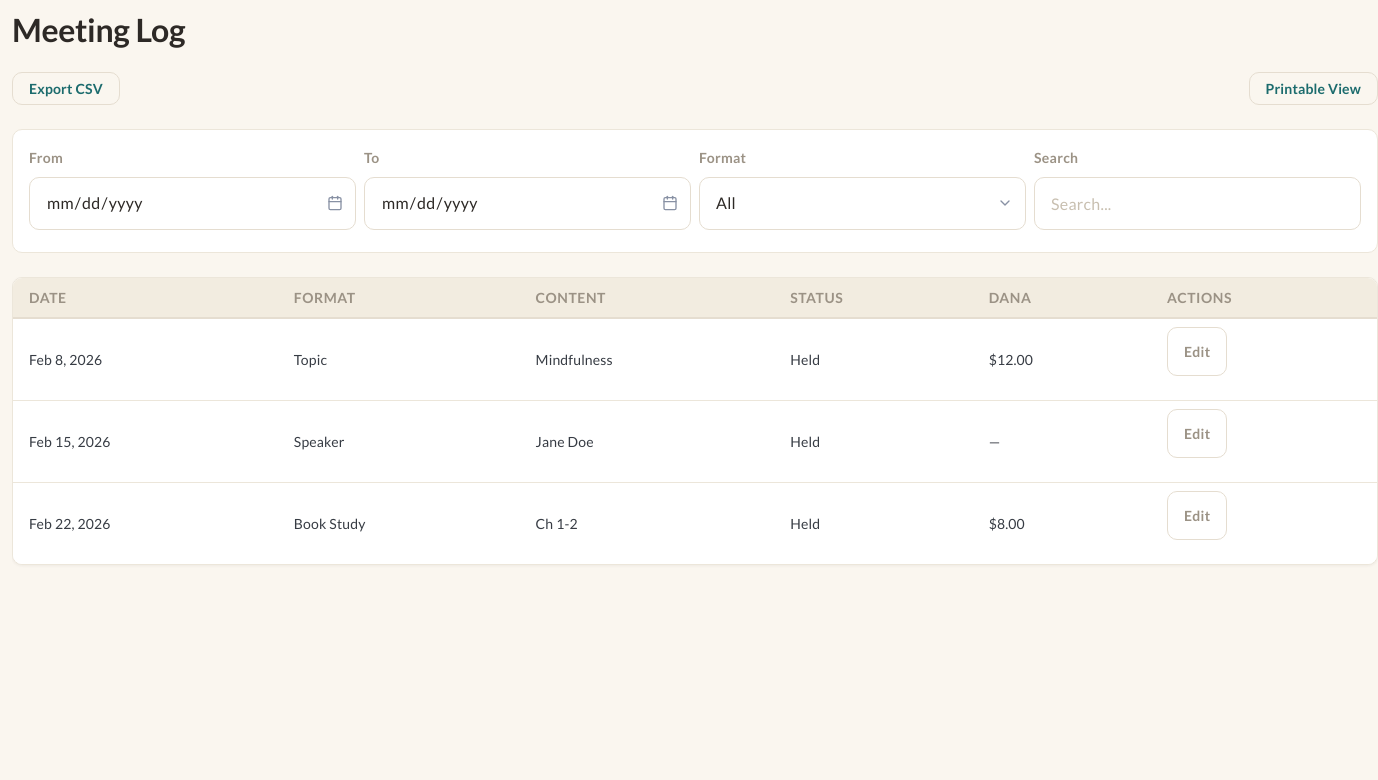
Test: Log › filtering › filters by date range
Expected: the text "Mindfulness" is shown, left=520, top=319, right=774, bottom=401
In the date field labelled "From": (192, 203) left=29, top=177, right=356, bottom=230, type "2026-02-14"
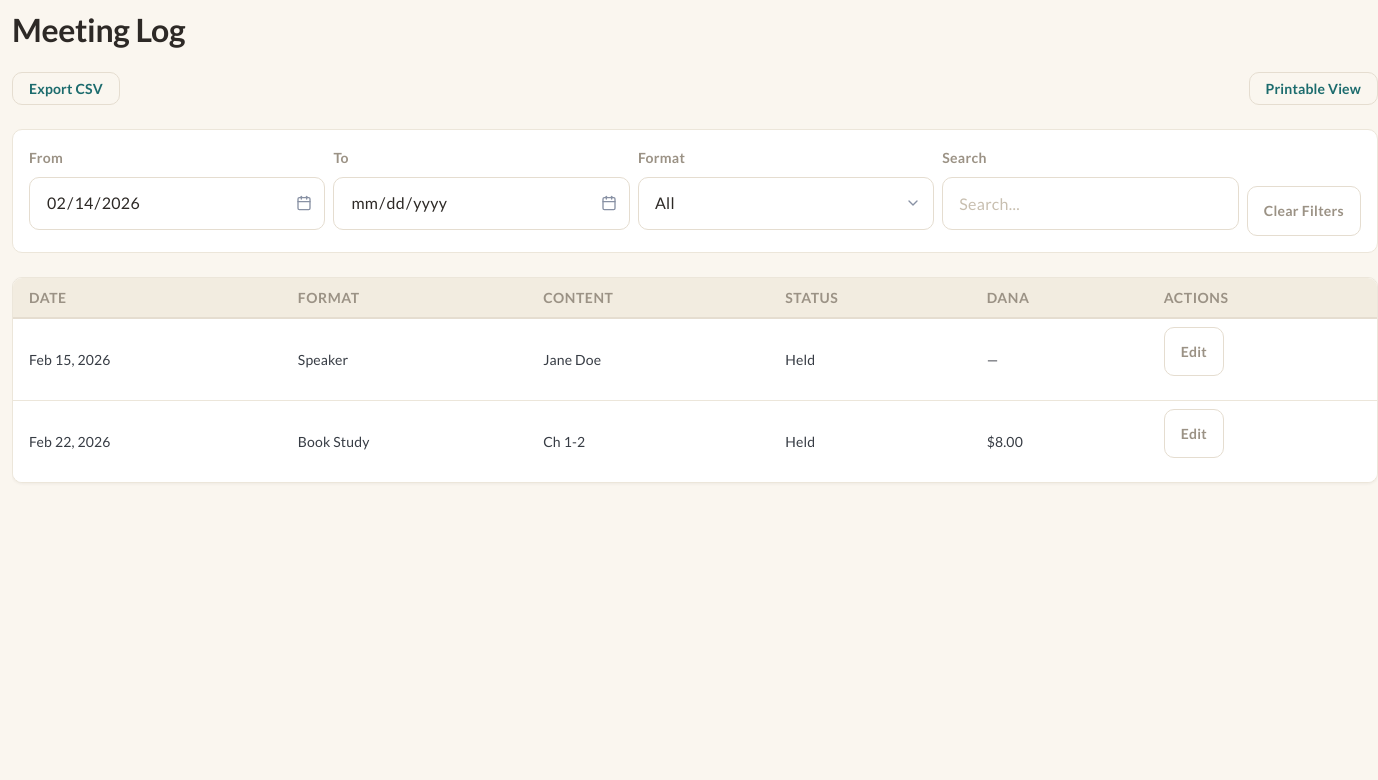
Expected: the text "Jane Doe" is shown, left=527, top=319, right=769, bottom=401
Expected: the text "Mindfulness" is gone
